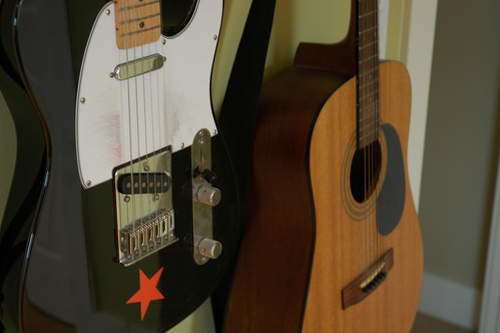guitar: (222, 1, 424, 331)
